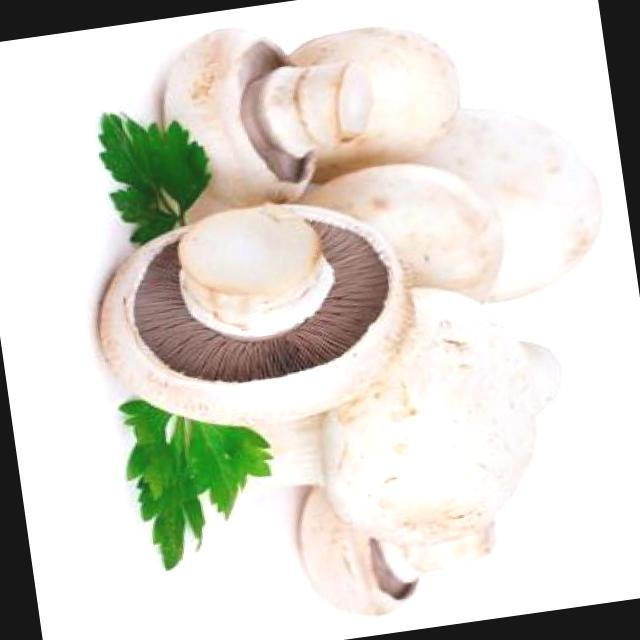Agaricus bisporus: (171, 274, 542, 576), (86, 188, 422, 448), (154, 9, 382, 226)
